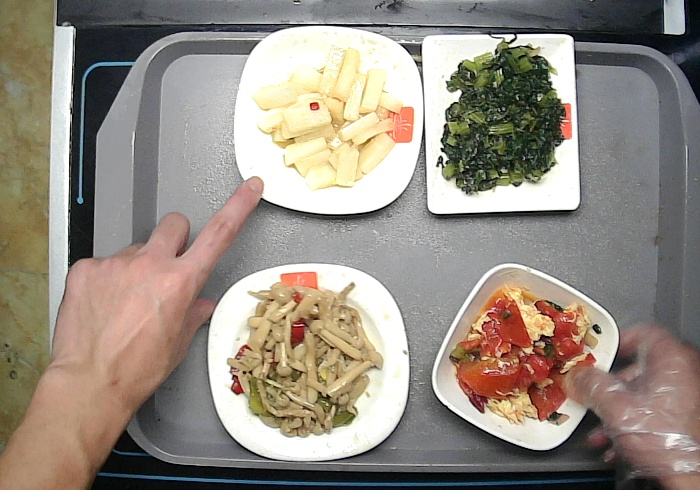SHKJ-Bai_Se_Cai_Die: (227, 19, 427, 220)
SHKJ-Bai_Se_Si_Fang_Cai_Die: (204, 260, 417, 463)
SHKJ-Bai_Se_Xiao_Fang_Die: (429, 261, 621, 452)
SHKJ-Si_Fang_Min: (417, 30, 589, 222)
